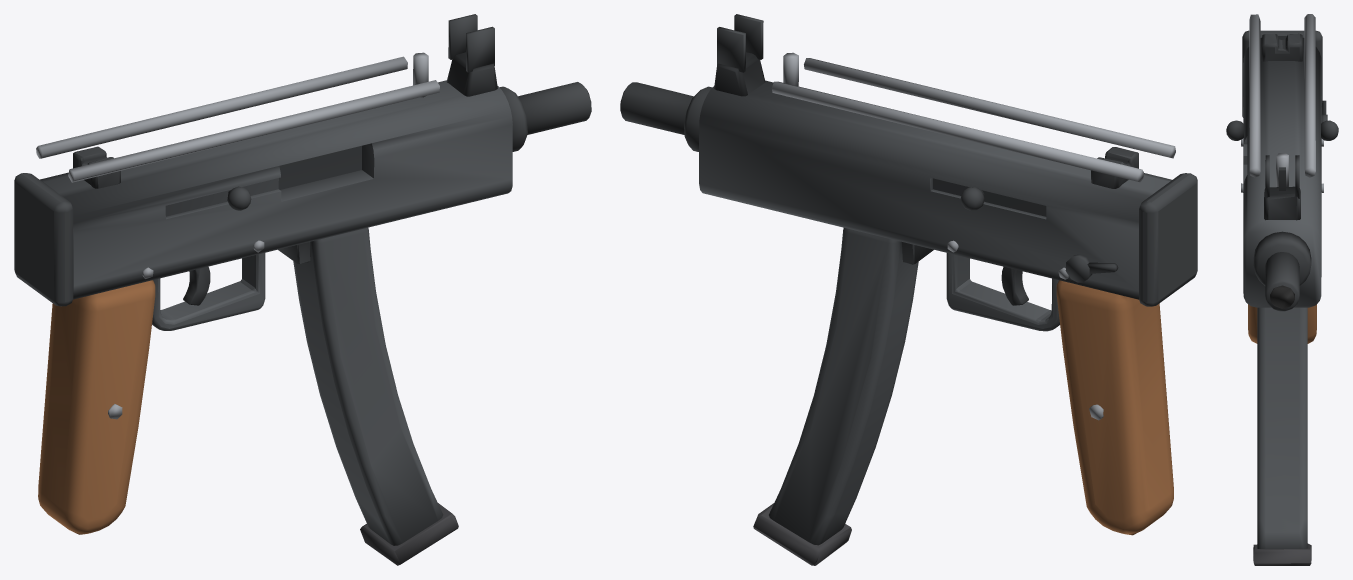
3 views of the same model, side by side, from view 1: azimuth 30°, elevation 25°; view 2: azimuth 150°, elevation 25°; view 3: azimuth 270°, elevation 25° (orthographic). The views are drawn at different scales.
Parts seen in each view (by area): view 1: lod_skin_paint, lod_skin_wood, lod_metal_dark, lod_metal_steel, lod_detail_polymer; view 2: lod_skin_paint, lod_skin_wood, lod_metal_dark, lod_metal_steel, lod_detail_polymer; view 3: lod_skin_paint, lod_metal_dark, lod_metal_steel, lod_detail_polymer, lod_skin_wood, lod_detail_rubber.
Part boxes in pixels (box(x1,y1,x2,y2)): lod_skin_paint: box(40, 80, 512, 545); lod_skin_wood: box(38, 280, 155, 534); lod_metal_dark: box(14, 14, 591, 306); lod_metal_steel: box(36, 52, 439, 419); lod_detail_polymer: box(360, 503, 458, 565); lod_skin_paint: box(699, 80, 1171, 545); lod_skin_wood: box(1056, 280, 1173, 535); lod_metal_dark: box(620, 14, 1197, 306); lod_metal_steel: box(771, 52, 1175, 420); lod_detail_polymer: box(753, 503, 851, 565); lod_skin_paint: box(1243, 36, 1321, 548); lod_metal_dark: box(1226, 30, 1338, 311); lod_metal_steel: box(1241, 14, 1323, 192); lod_detail_polymer: box(1253, 543, 1311, 565); lod_skin_wood: box(1248, 304, 1316, 343); lod_detail_rubber: box(1270, 285, 1294, 308).
Size of the model in its own units: 0.2377 by 0.2099 by 0.0489.
